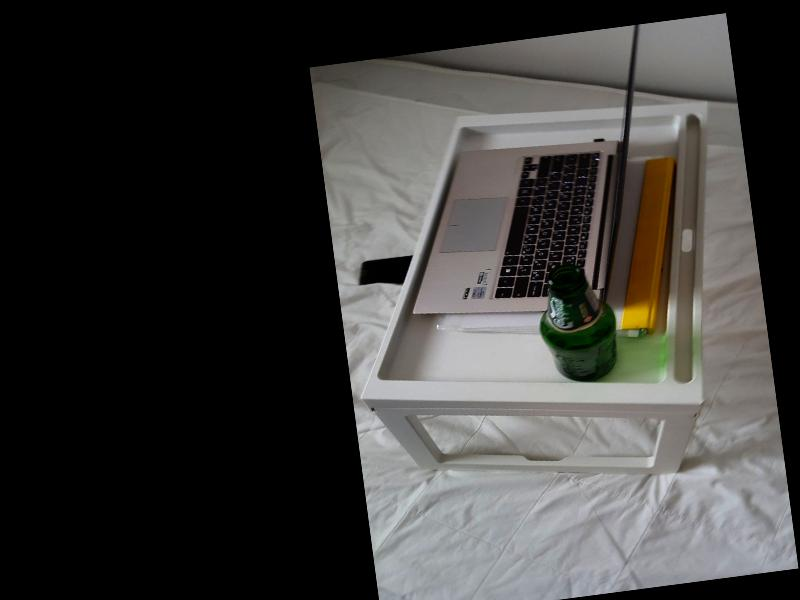Beer: (534, 260, 622, 386)
